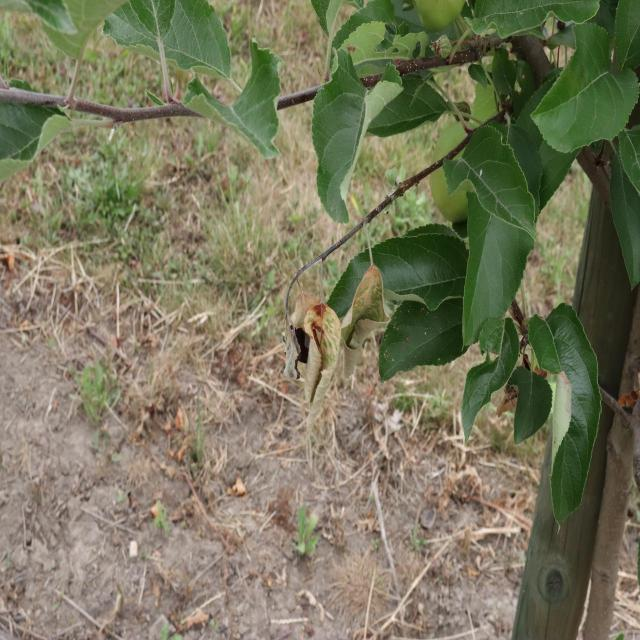-FireBlight-: (284, 267, 346, 399)
